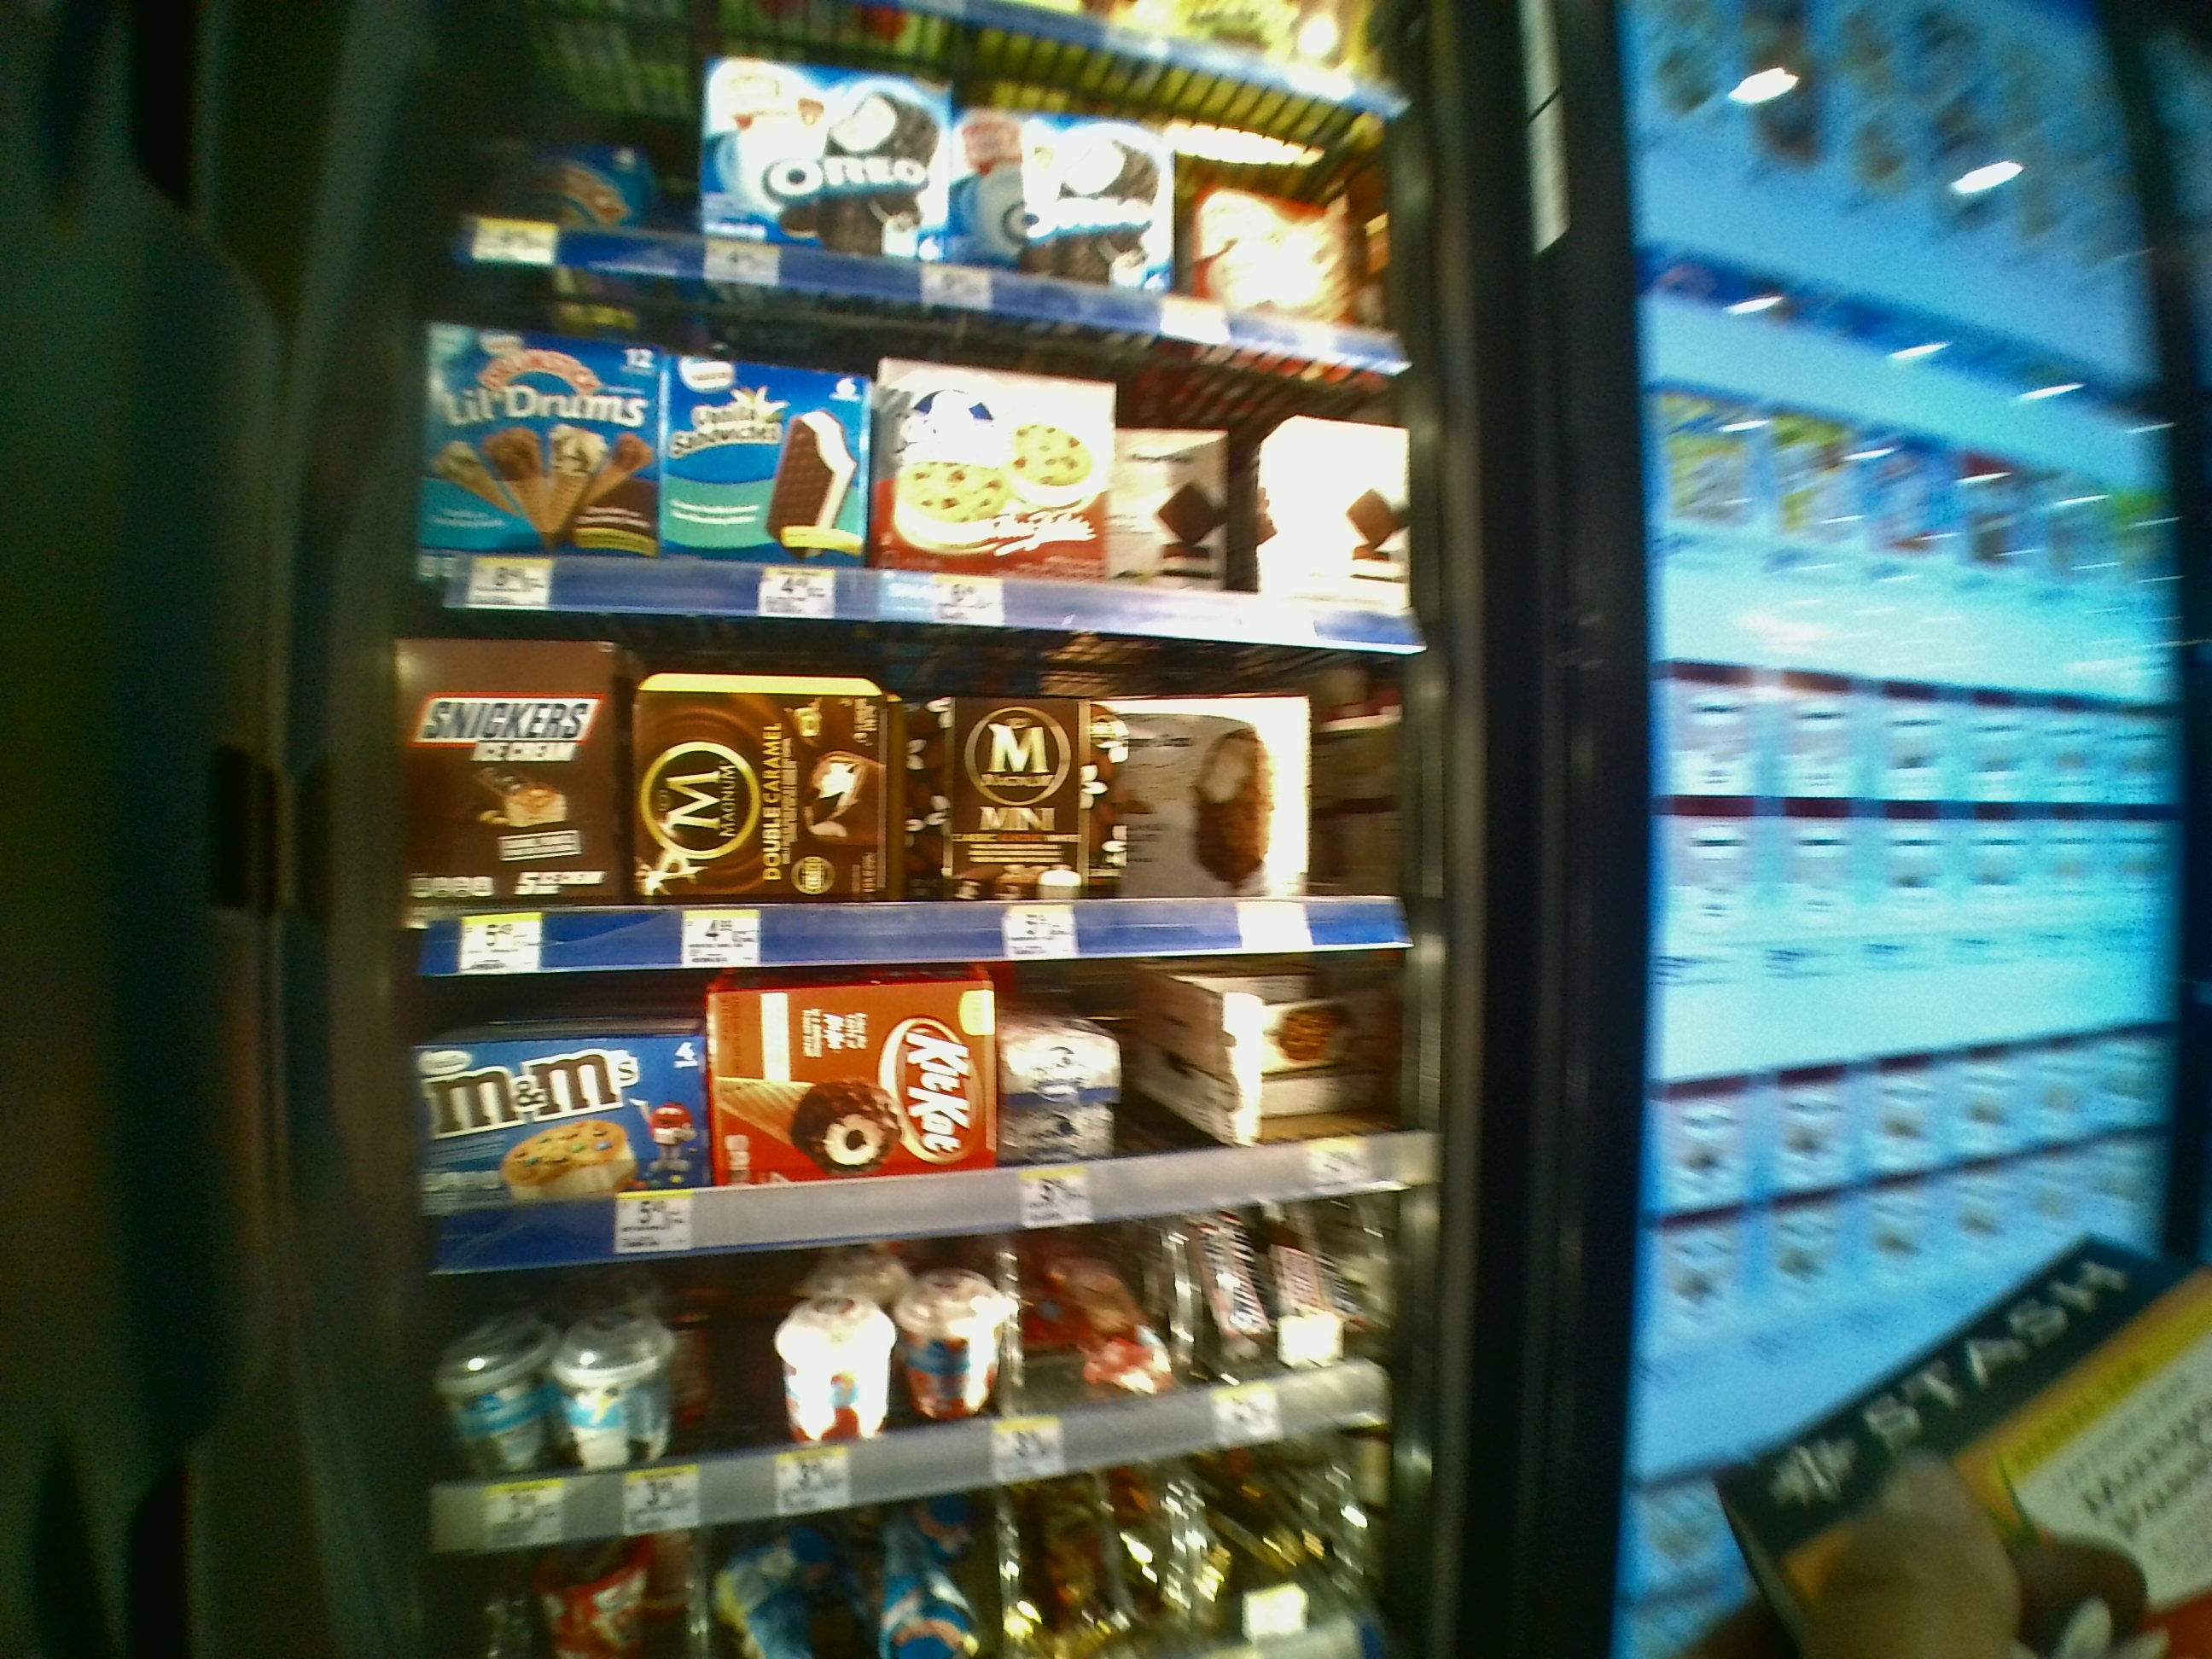shelf: (415, 267, 1435, 612), (404, 633, 1435, 972), (411, 988, 1446, 1270)
